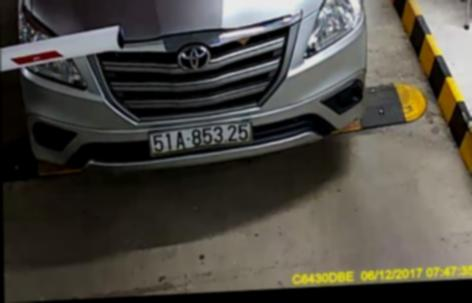License_Plate: (145, 120, 259, 156)
